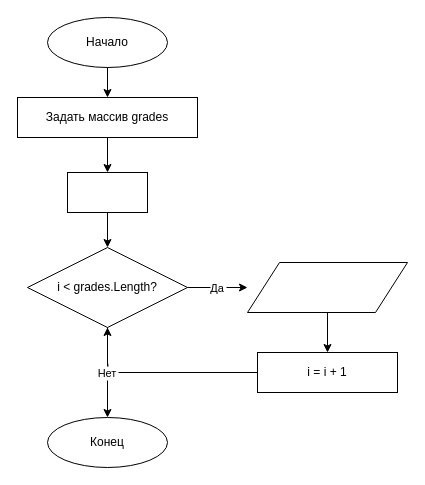
The diagram is 425 pixels wide and 485 high, and some of its shapes have lost their labels. The centre of each missing label's shape, as x and y in pixels:
i = 0: point (107, 192)
Вывод: grades[i]: point (327, 287)
